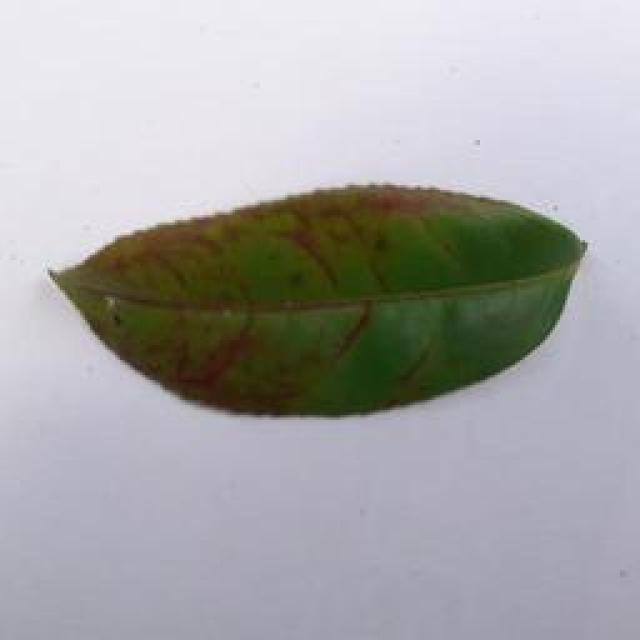Red Leaf Spot: (37, 166, 607, 443)
